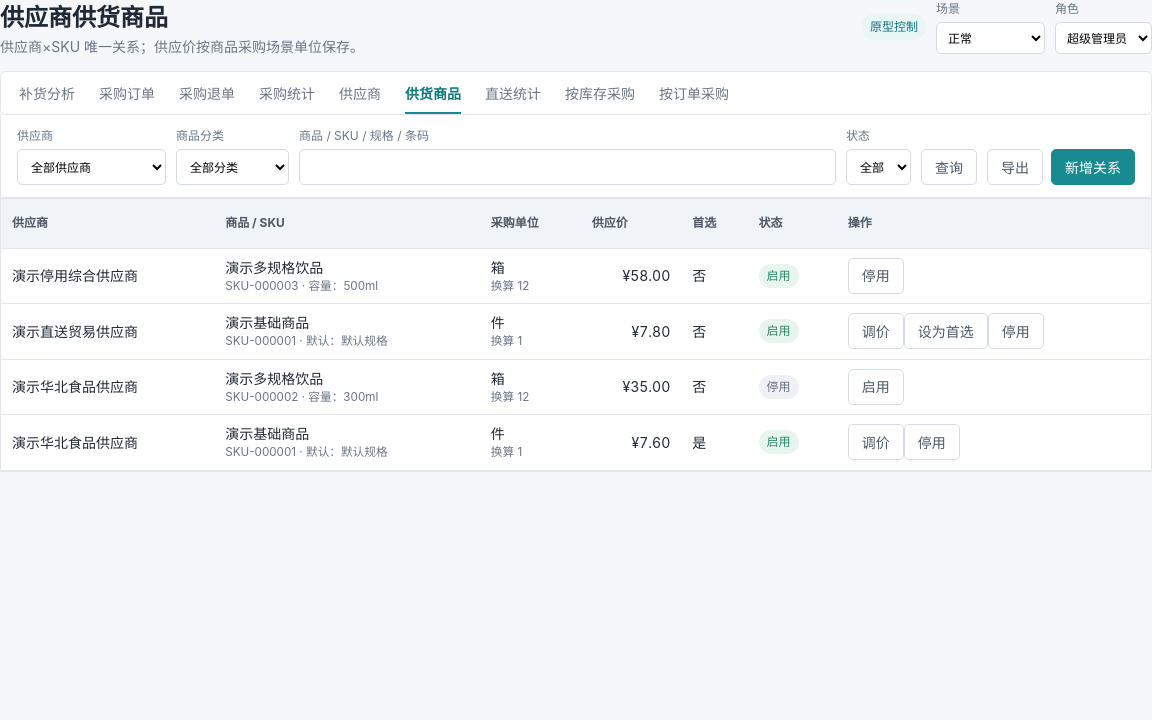
Test: procurement views › explains how to continue and blocks save when the current site has no on-sale SKU
Step 1. Click the button "新增关系" → (1093, 167), box [1051,149,1135,185]
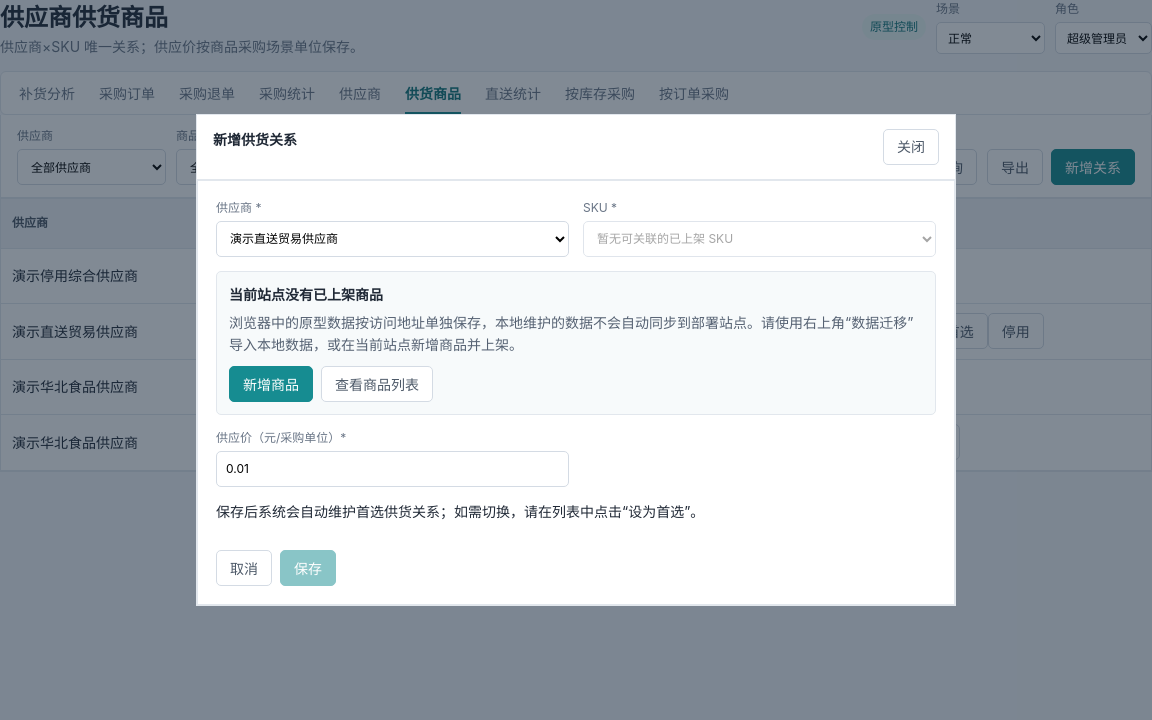
Result: the dropdown labelled "SKU *" is disabled at [583,221,936,257]
Result: the text "当前站点没有已上架商品" is shown at [229,286,383,303]
Result: the link to "/products/new" reads "新增商品" at [229,366,313,402]
Step 2. Submit the form that starts with "供应商 *", box [197,180,955,605]
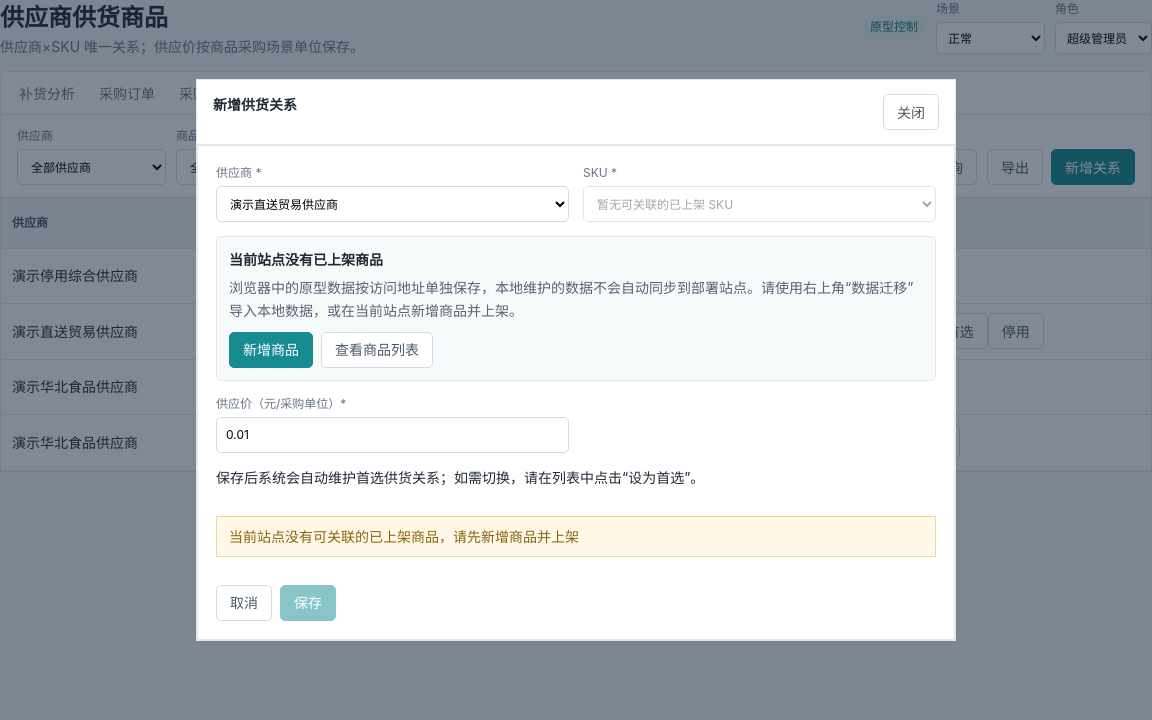
Result: the text "当前站点没有可关联的已上架商品，请先新增商品并上架" is shown at [216,516,936,557]
